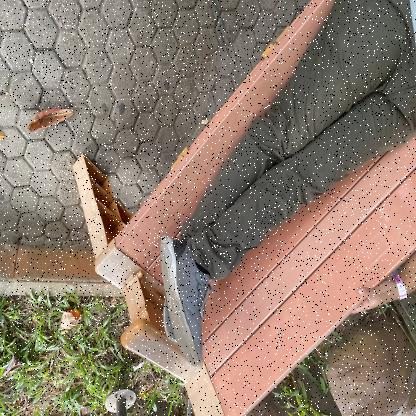leg: (156, 156, 327, 378)
